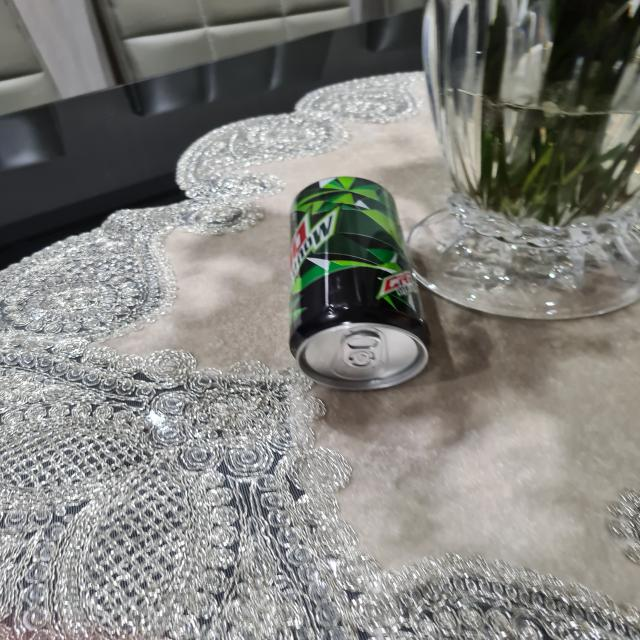non-organic waste: (287, 177, 432, 394)
